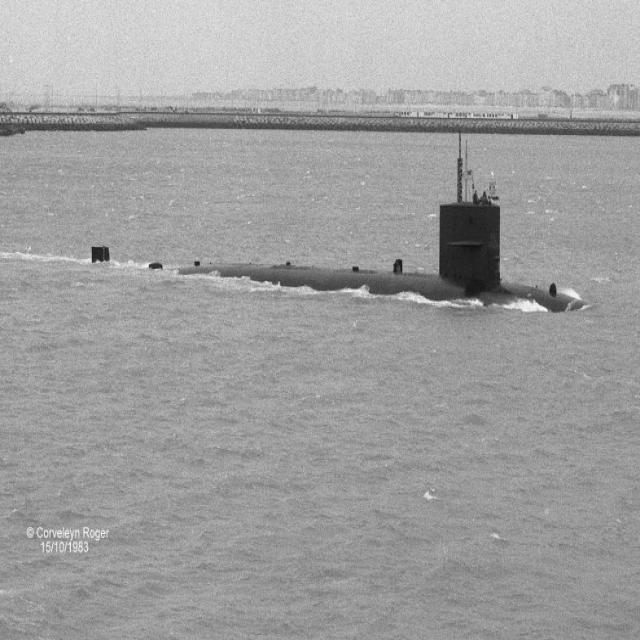submarine: (91, 135, 590, 310)
